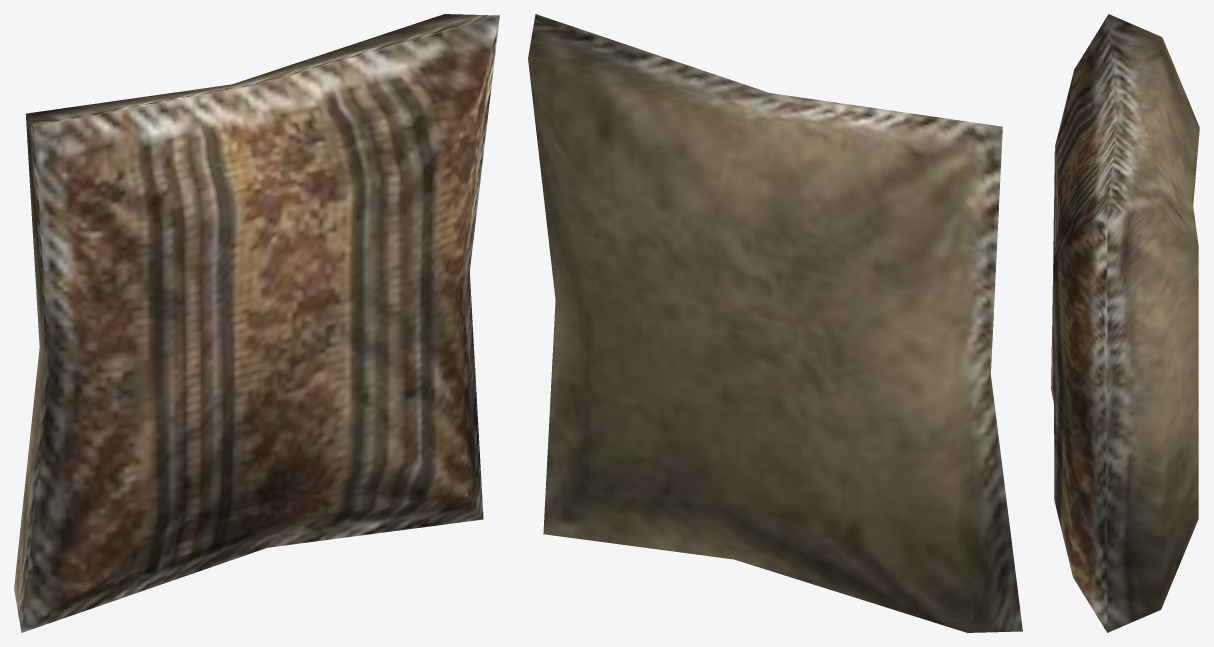
The model's file is prop_pillow_duhoc1.glb.
3 views of the same model, side by side, from view 1: azimuth 30°, elevation 25°; view 2: azimuth 150°, elevation 25°; view 3: azimuth 270°, elevation 25° (orthographic). The views are drawn at different scales.
Bounding box in the file's own units: 21.44 × 21.37 × 6.68.
1 material, 1 textured.
